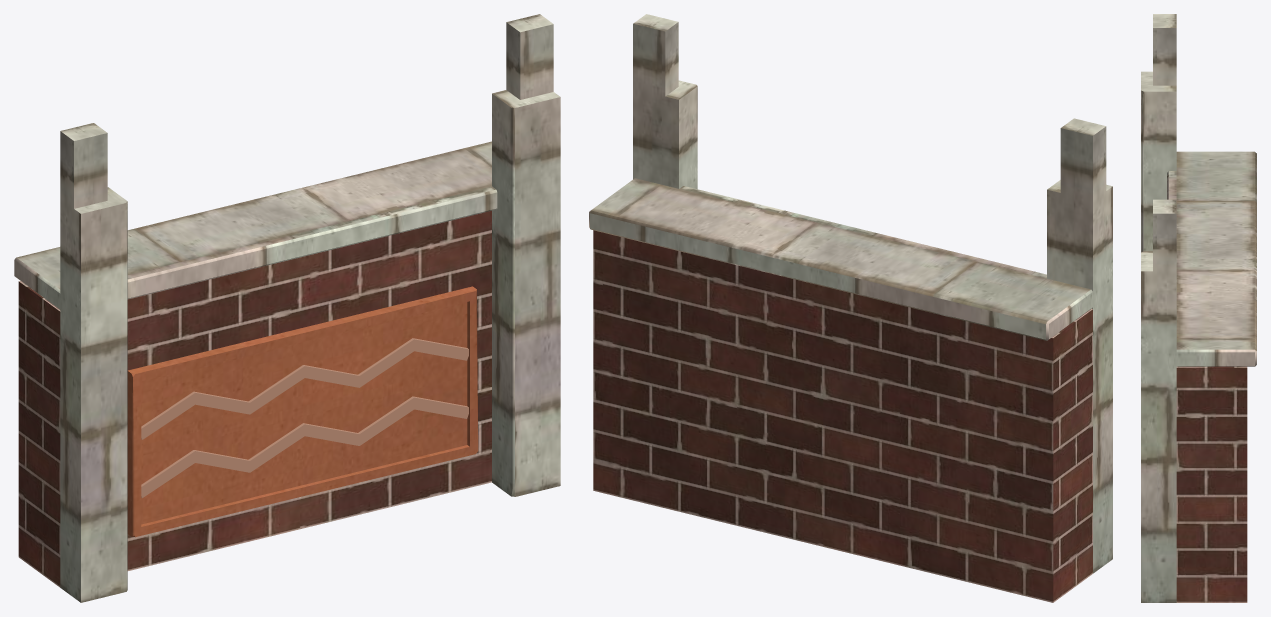
File: parapet.glb
3 views of the same model, side by side, from view 1: azimuth 30°, elevation 25°; view 2: azimuth 150°, elevation 25°; view 3: azimuth 270°, elevation 25° (orthographic). The views are drawn at different scales.
Visible parts, largest first — view 1: parapet_stone, parapet_brick_d, parapet_terra, parapet_terra2; view 2: parapet_brick_d, parapet_stone; view 3: parapet_stone, parapet_brick_d.
Part boxes in pixels (x1=…): parapet_stone: x1=14, y1=14, x2=560, y2=602; parapet_brick_d: x1=18, y1=211, x2=491, y2=587; parapet_terra: x1=127, y1=286, x2=478, y2=537; parapet_terra2: x1=141, y1=338, x2=468, y2=497; parapet_brick_d: x1=593, y1=230, x2=1092, y2=602; parapet_stone: x1=589, y1=14, x2=1112, y2=573; parapet_stone: x1=1141, y1=14, x2=1256, y2=602; parapet_brick_d: x1=1176, y1=366, x2=1247, y2=602.
Bounding box in the file's own units: 2 × 1.82 × 0.49.
Materials: 4 (3 with a texture image).
